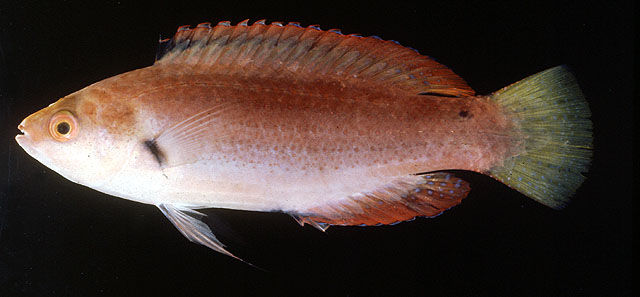fish: (15, 18, 593, 265)
